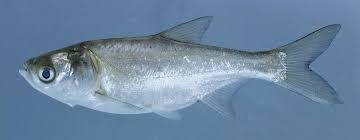Silver Carp: (19, 16, 344, 124)
